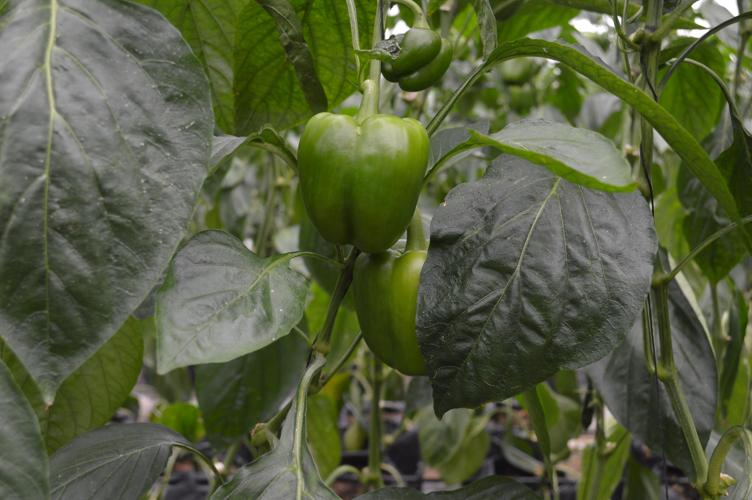BellPepper: (299, 113, 426, 245), (351, 247, 427, 380), (382, 26, 450, 87)
